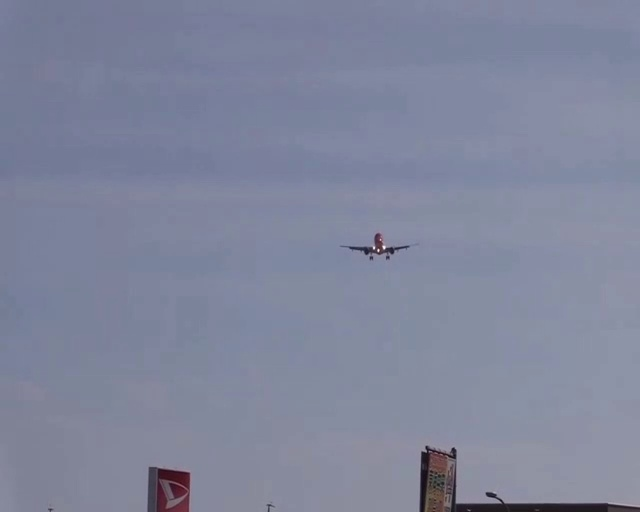AIRPLANE: (340, 231, 417, 261)
